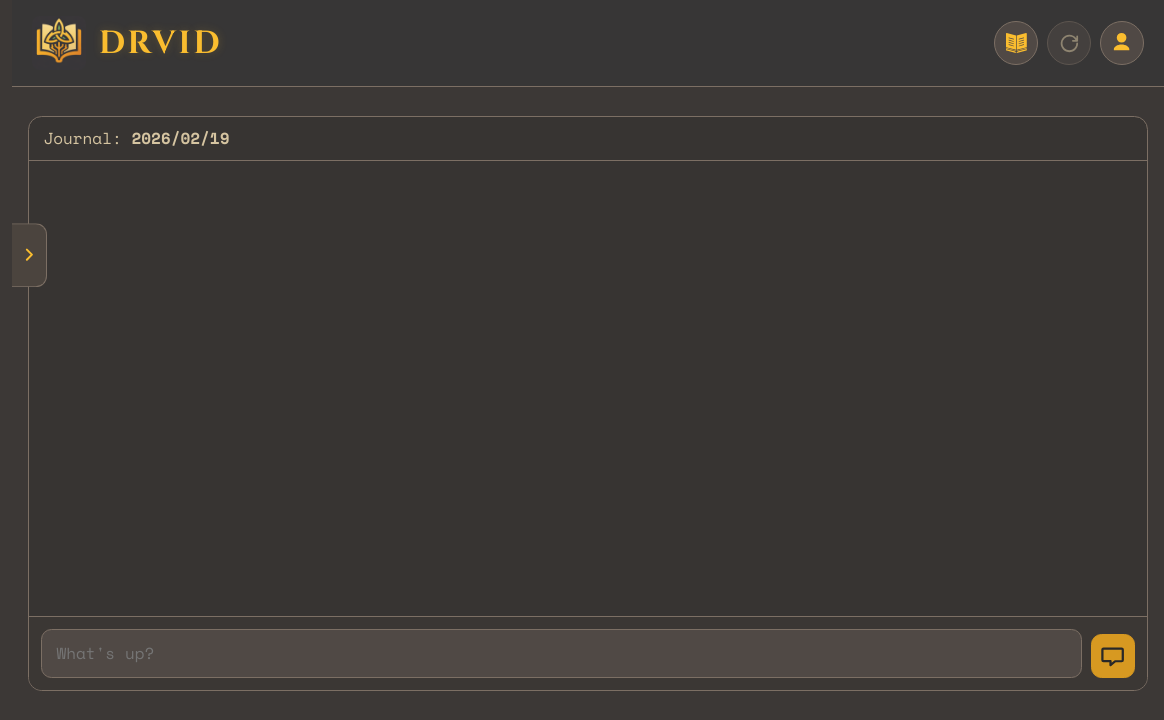
Test: root page › disables chat with tooltip for past journals selected from sidebar
Expected: the text box named "Type your message" is enabled, 41,629 -> 1082,678
Step 1. Click the button named "Open journals" → [30, 255], box 12,223 -> 47,287
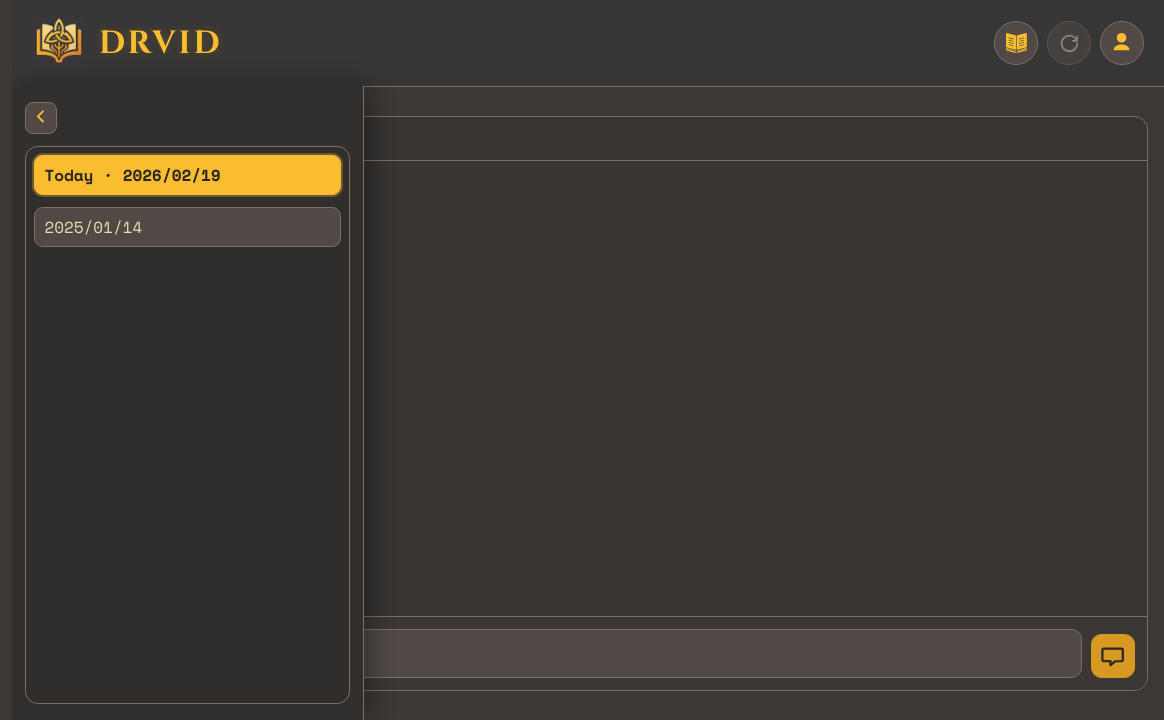
Step 2. Click the button "2025/01/14" → [93, 227], box 34,207 -> 341,247
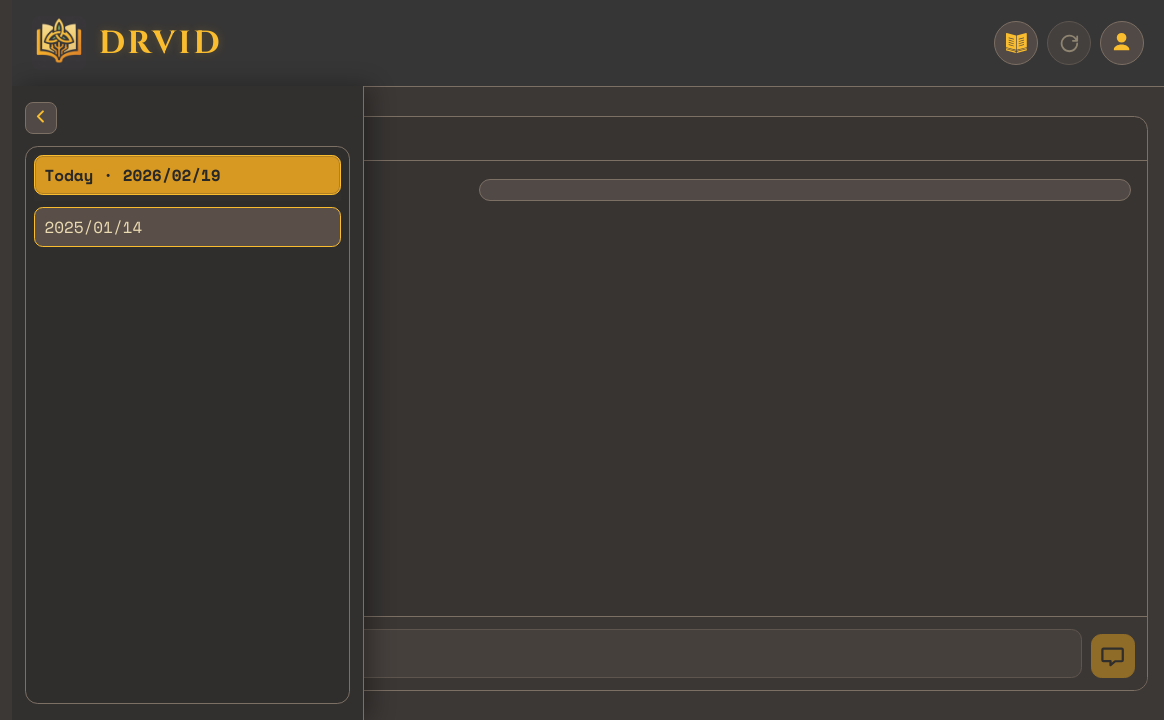
Expected: the text box named "Type your message" is disabled, 41,629 -> 1082,678
Now the button named "Send message" is disabled, box 1091,634 -> 1135,678
